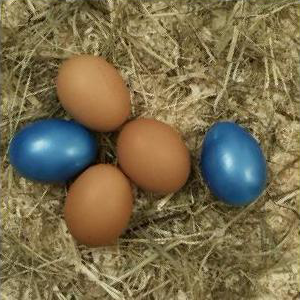egg: (8, 119, 101, 184), (116, 117, 192, 195), (56, 55, 132, 132), (63, 163, 133, 246), (200, 121, 267, 206)
